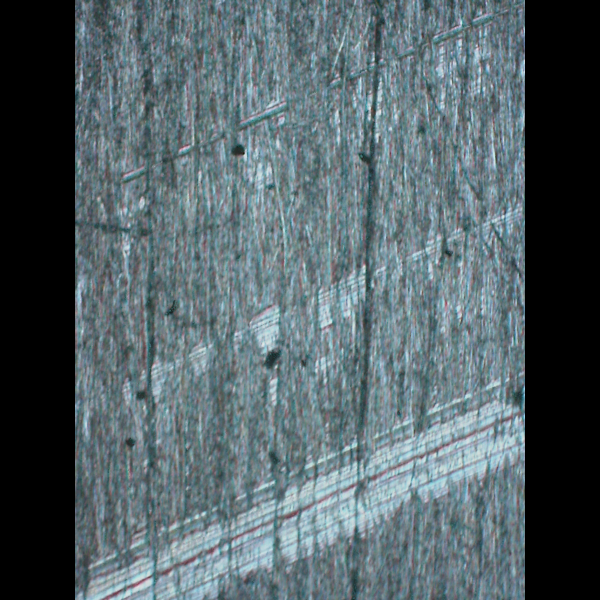d: (75, 200, 523, 432), (81, 366, 523, 599)
